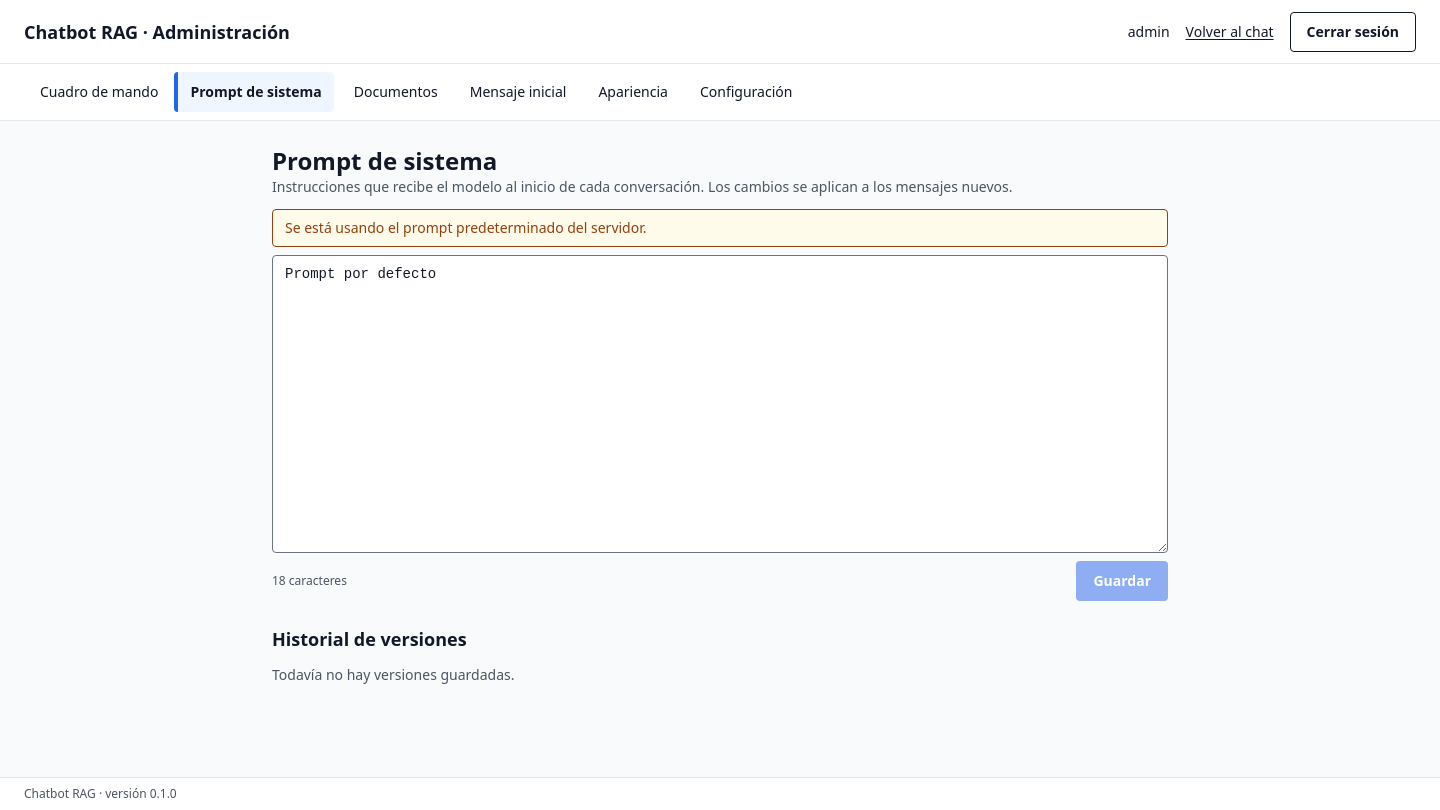
Test: PromptPage › guarda el prompt y muestra la nueva versión vigente
Expected: the text "Se está usando el prompt predeterminado del servidor." is shown, [272,209,1168,247]
Expected: the text "Todavía no hay versiones guardadas." is shown, [272,665,514,684]
Step 1. Replace the text in the text box named "Prompt de sistema" with "  Eres un experto.  " → (720, 404), box [272,255,1168,553]
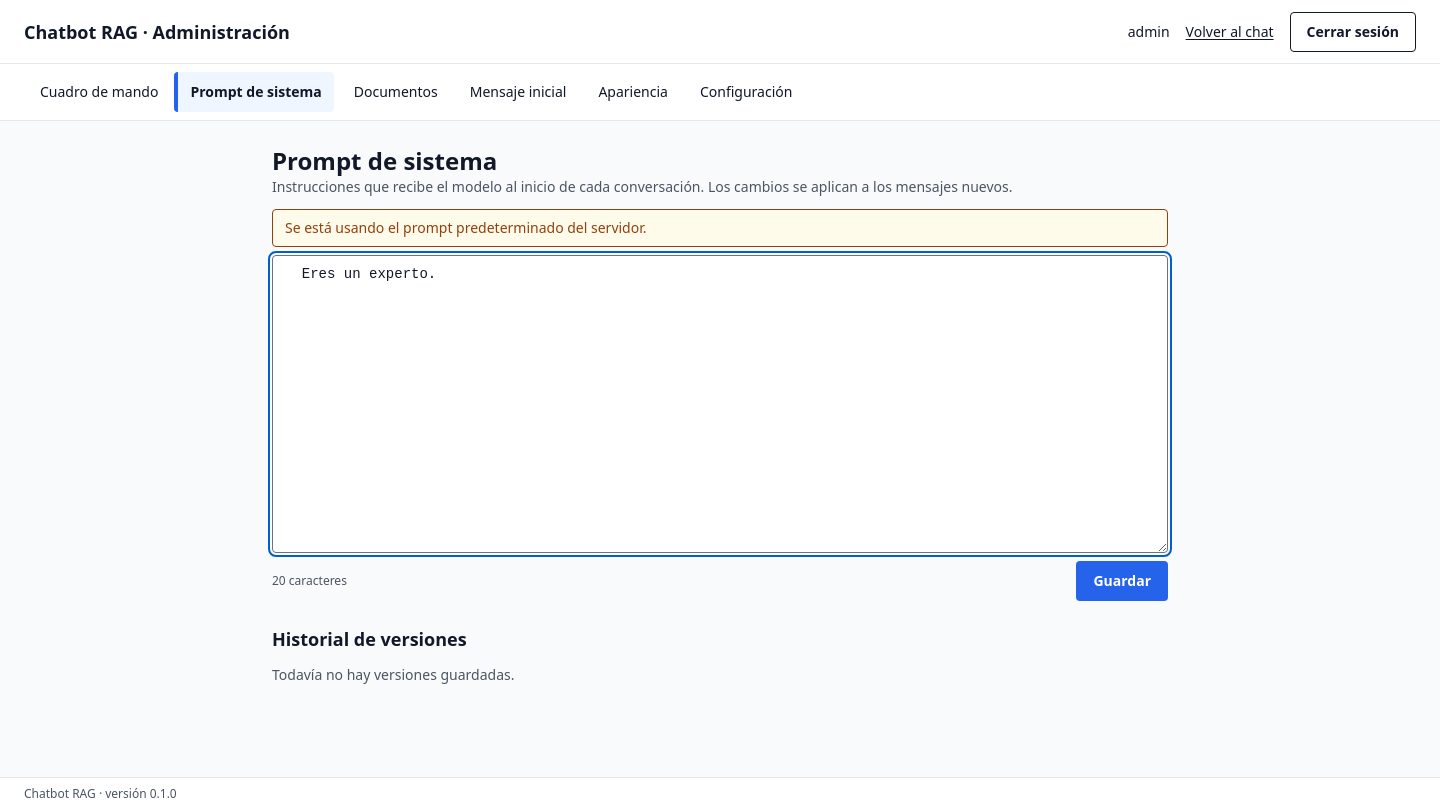
Expected: the text "20 caracteres" is shown, [272,573,347,589]
Step 2. Click the button "Guardar" → (1122, 581), box [1076,561,1168,601]
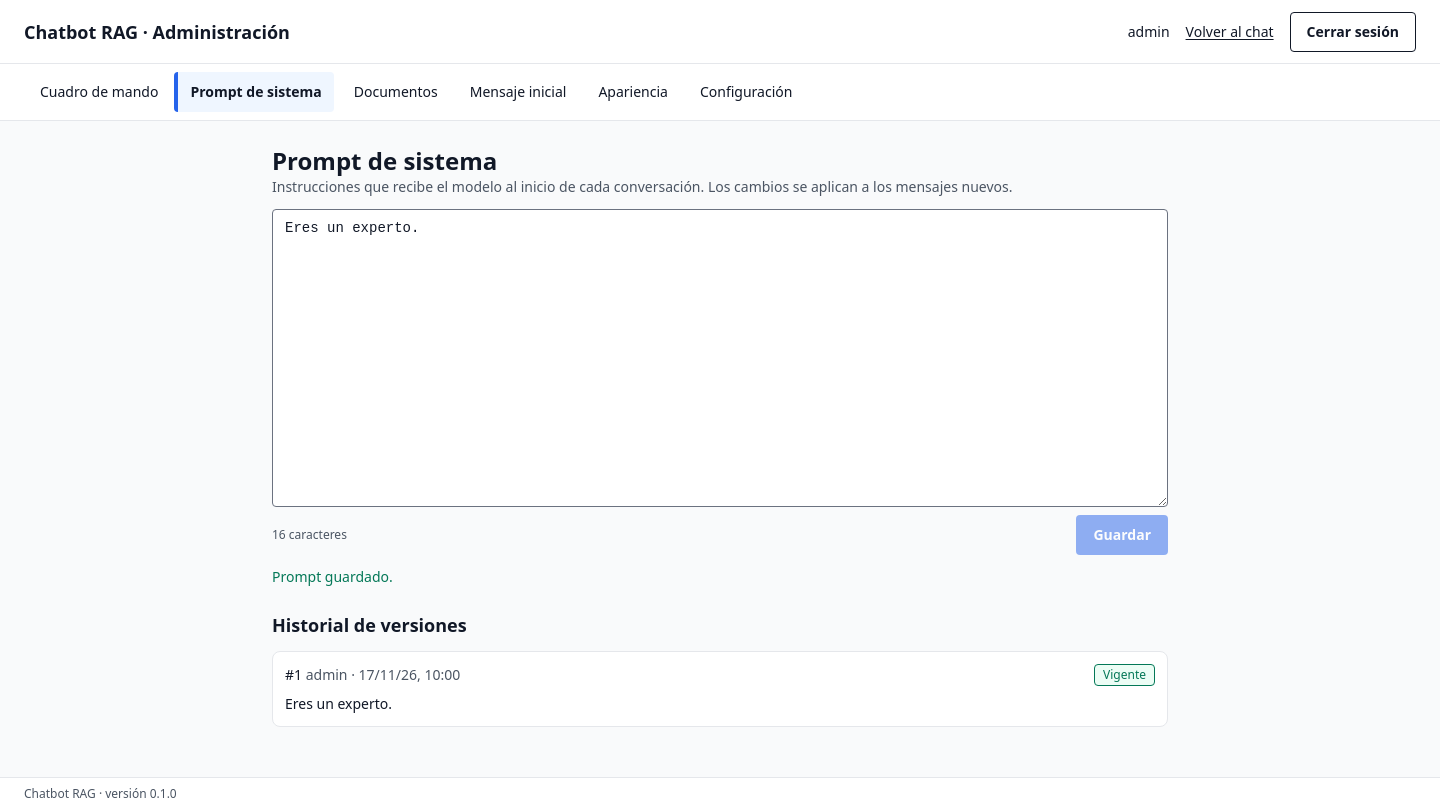
Expected: the message reads "Prompt guardado.", [272,567,393,586]
Expected: the text "Vigente" is shown, [1094,664,1155,686]
Expected: the text box named "Prompt de sistema" holds "Eres un experto.", [272,209,1168,507]
